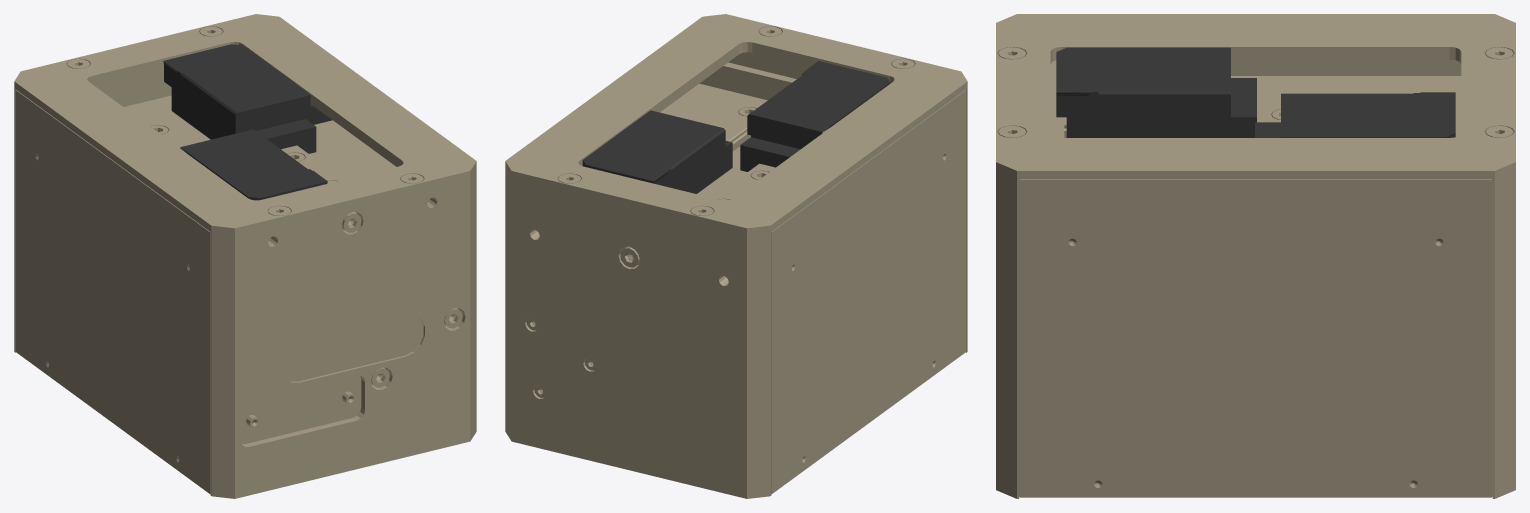
3 renders of one model, left to right at view 1: azimuth 30°, elevation 25°; view 2: azimuth 150°, elevation 25°; view 3: azimuth 270°, elevation 25°, orthographic. The views are drawn at different scales.
Parts seen in each view (by area): view 1: Gripper_Schunk; view 2: Gripper_Schunk; view 3: Gripper_Schunk.
Part boxes in pixels (x1,y1,x2,y2): Gripper_Schunk: (14, 14, 476, 498); Gripper_Schunk: (505, 14, 967, 498); Gripper_Schunk: (996, 14, 1515, 498).
Size of the model in its own units: 0.08 by 0.112 by 0.078.
